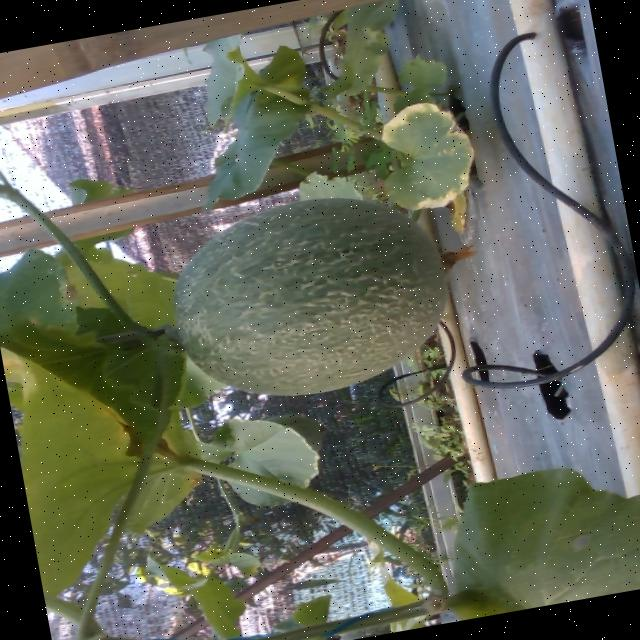melon: (175, 196, 446, 394)
